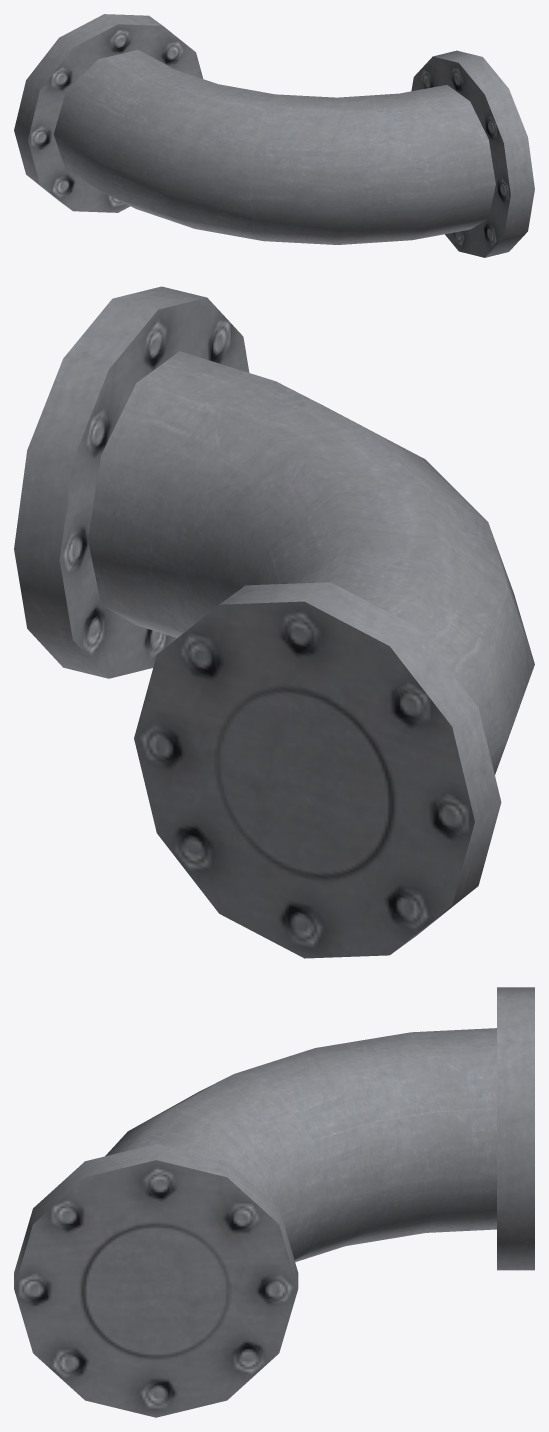
The model's file is p_corner_small.FBX.
The picture shows the model from 3 angles, top to bottom: view 1: azimuth 30°, elevation 25°; view 2: azimuth 150°, elevation 25°; view 3: azimuth 270°, elevation 25°; orthographic projection. The views are drawn at different scales.
Visible parts, largest first — view 1: Object001; view 2: Object001; view 3: Object001.
Part boxes in pixels (<box>): Object001: <box>14,14,534,257</box>; Object001: <box>14,286,534,958</box>; Object001: <box>14,987,534,1417</box>.
Size of the model in its own units: 54.92 by 29.97 by 54.92.
Materials: 1 (1 with a texture image).
